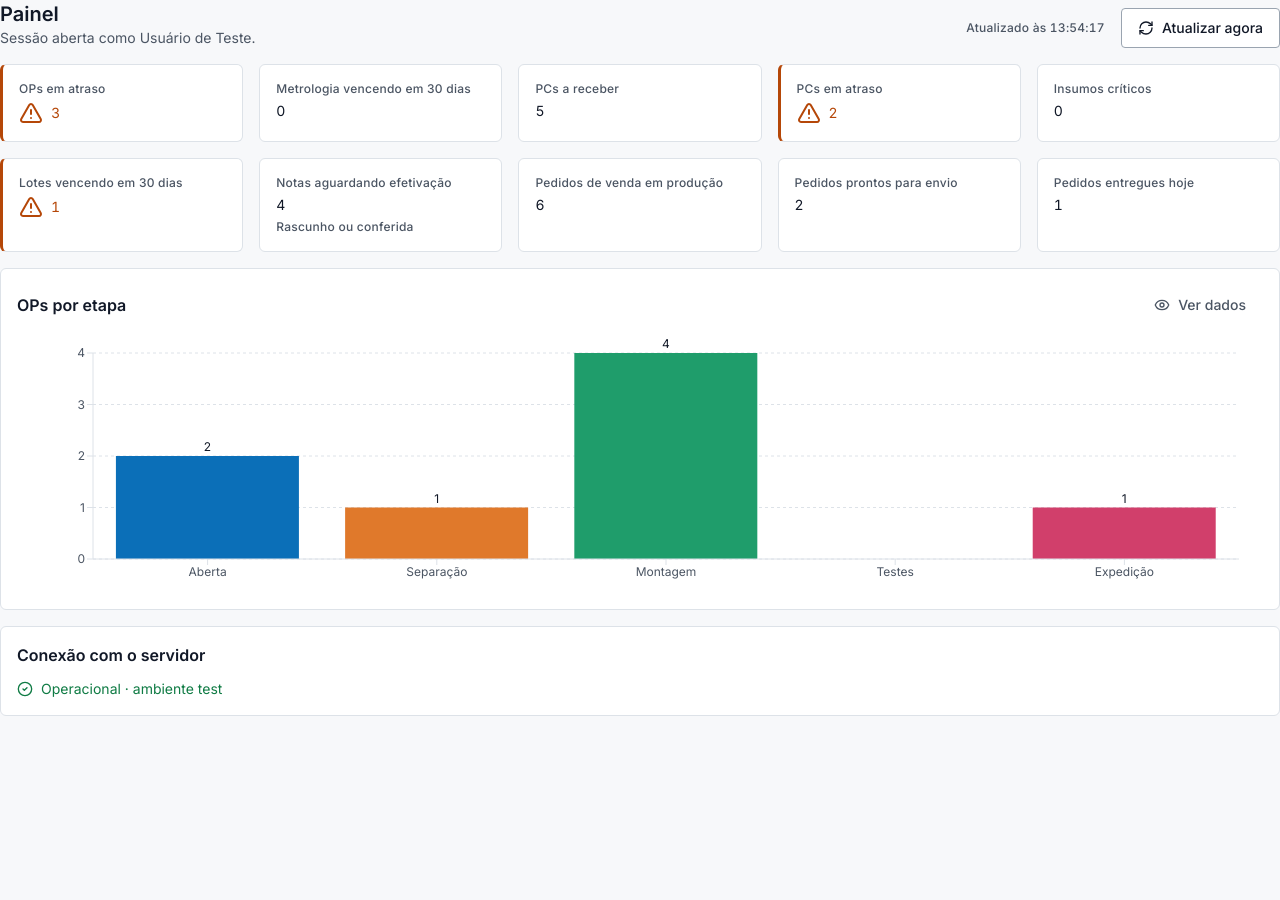
Test case: Painel › mostra o grafico de OPs por etapa com a tabela equivalente e os nomes das etapas
What coordinates should you click on to do the following:
click the button "Ver dados"
I would click on:
 (1200, 305)
Its box is top-left (1137, 285), bottom-right (1263, 325).
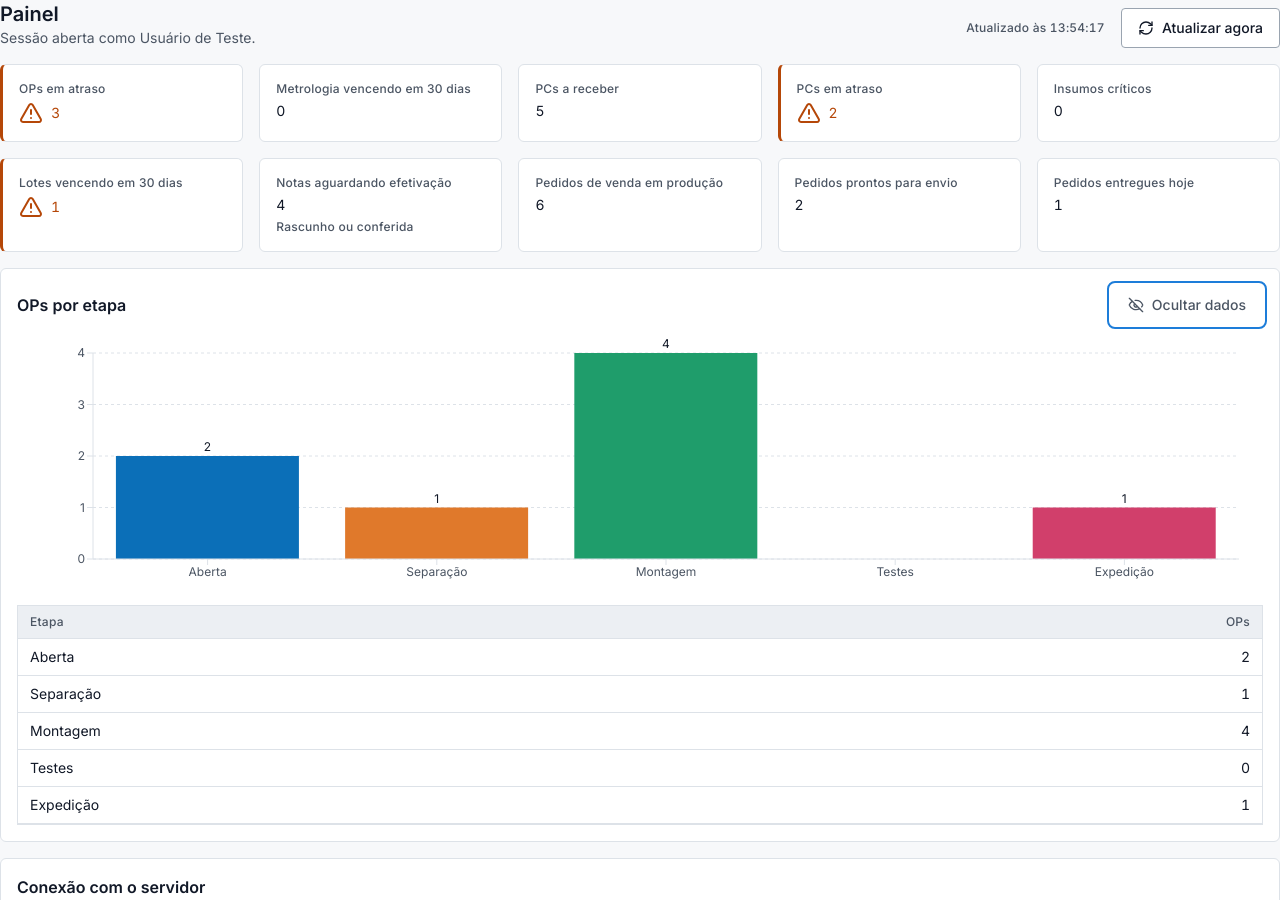
expect the column heading "Separação" is shown: met, box top-left (18, 676), bottom-right (845, 712)
expect the column heading "Expedição" is shown: met, box top-left (18, 786), bottom-right (845, 824)
expect the column heading "Aberta" is shown: met, box top-left (18, 639), bottom-right (845, 676)
